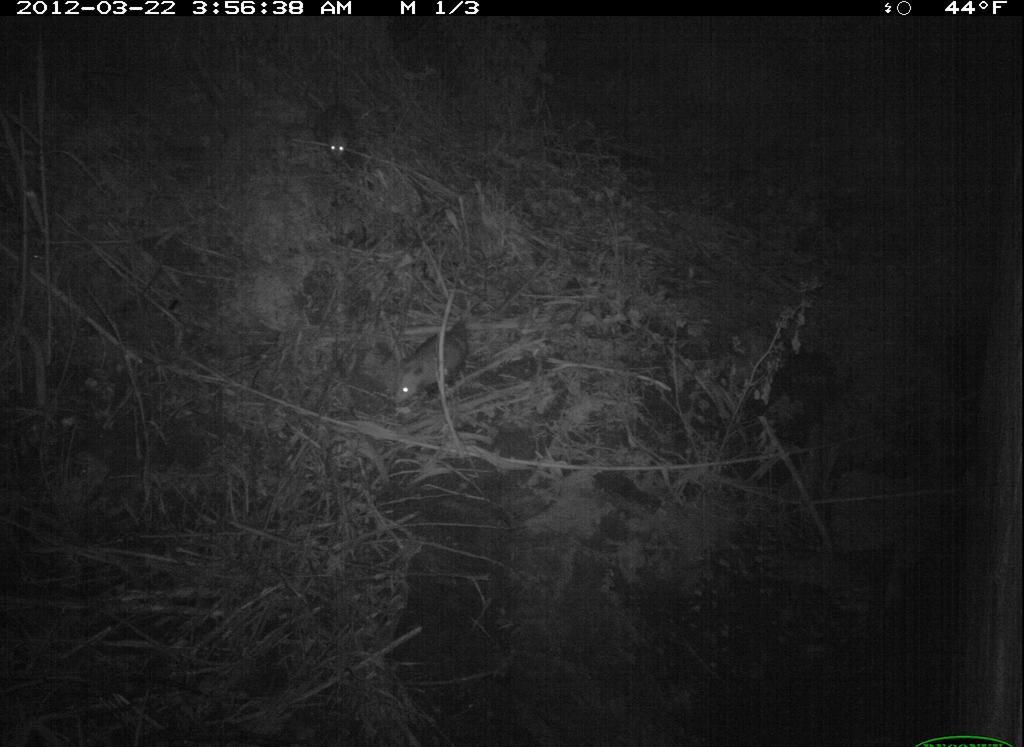opossum: (360, 308, 498, 411), (296, 73, 370, 185)
